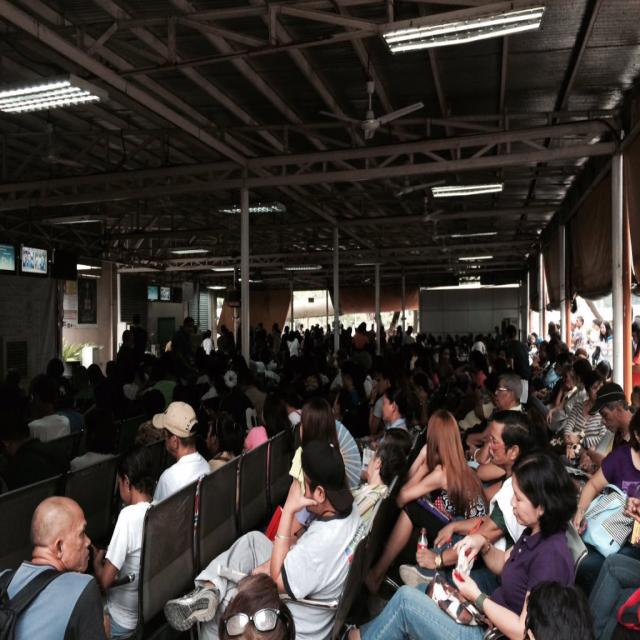body: (338, 443, 579, 640), (157, 433, 373, 639), (398, 408, 539, 597), (360, 406, 491, 597), (0, 494, 113, 639), (249, 320, 400, 425), (0, 355, 117, 481), (90, 440, 162, 640), (116, 314, 250, 414), (264, 395, 351, 548), (520, 532, 640, 639), (416, 332, 504, 428), (548, 342, 638, 428), (570, 380, 638, 491), (151, 399, 212, 508), (214, 571, 297, 640), (348, 440, 408, 531), (562, 368, 608, 461), (206, 411, 246, 517), (504, 332, 548, 408), (370, 383, 414, 451), (504, 323, 531, 408), (240, 424, 271, 489), (493, 373, 524, 415), (589, 318, 613, 372), (399, 370, 417, 422), (400, 324, 416, 371), (630, 317, 640, 386), (570, 314, 587, 352), (286, 329, 301, 358), (200, 328, 216, 355), (548, 320, 562, 345), (588, 318, 601, 344), (470, 334, 486, 355), (493, 324, 502, 358), (632, 313, 640, 322)
